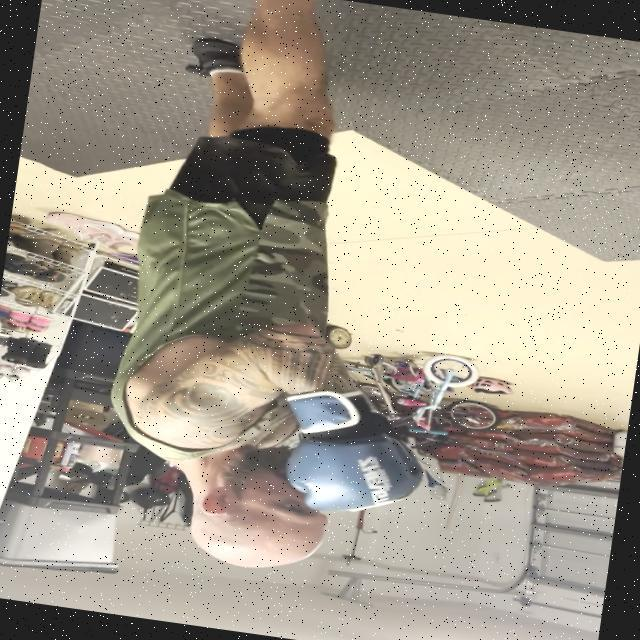no punch: (105, 292, 450, 600)
